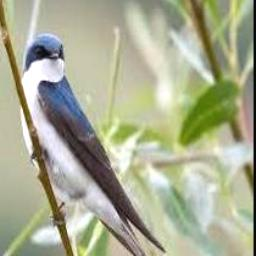Swallow: (20, 33, 166, 256)
